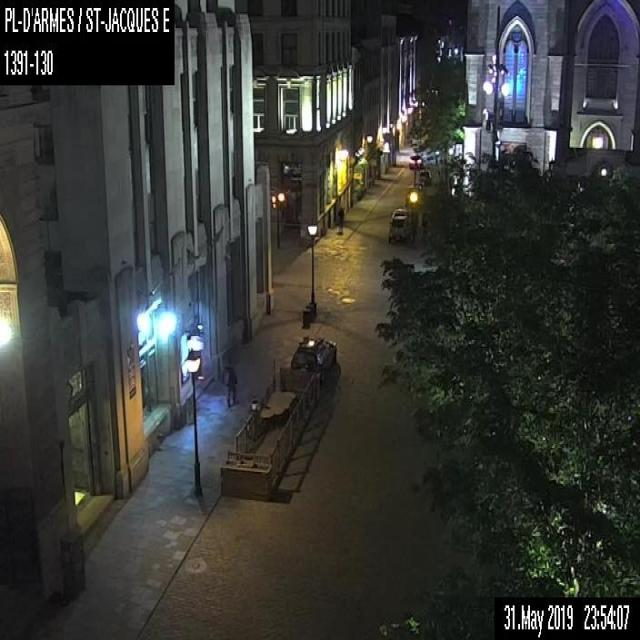pedestrian: (220, 358, 238, 407), (336, 203, 344, 233)
vehicle: (290, 333, 336, 383), (388, 215, 408, 242), (404, 185, 421, 208), (418, 168, 431, 186), (408, 154, 422, 168), (390, 208, 409, 218)
